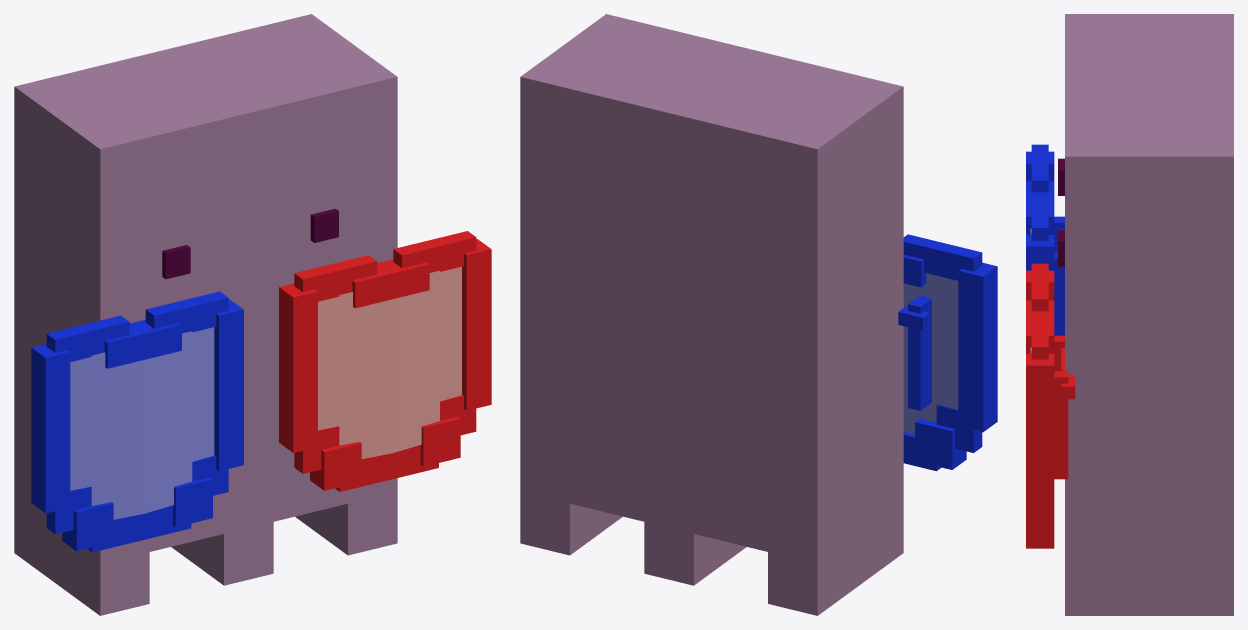
File: ShieldSpirit.fbx
3 renders of one model, left to right at view 1: azimuth 30°, elevation 25°; view 2: azimuth 150°, elevation 25°; view 3: azimuth 270°, elevation 25°, orthographic.
Parts seen in each view (by area): view 1: Cube.036, Cube.027, Cube.014, Cube.006, Cube.001, Cube.035, Cube.034; view 2: Cube.036, Cube.027, Cube.006, Cube.030; view 3: Cube.036, Cube.014, Cube.027, Cube.017, Cube.030.
Boxes of the visible parts, x1,y1,x2,y2 form: Cube.036: (14, 14, 397, 615); Cube.027: (31, 291, 243, 552); Cube.014: (279, 231, 491, 491); Cube.006: (70, 327, 214, 519); Cube.001: (318, 266, 461, 459); Cube.035: (310, 208, 338, 242); Cube.034: (162, 245, 190, 279); Cube.036: (520, 14, 903, 615); Cube.027: (903, 234, 997, 471); Cube.006: (903, 273, 958, 434); Cube.030: (898, 295, 931, 410); Cube.036: (1065, 14, 1233, 615); Cube.014: (1026, 263, 1054, 548); Cube.027: (1026, 144, 1054, 270); Cube.017: (1054, 335, 1075, 479); Cube.030: (1054, 216, 1064, 335).
Size of the model in its own units: 180 by 180 by 73.8.
